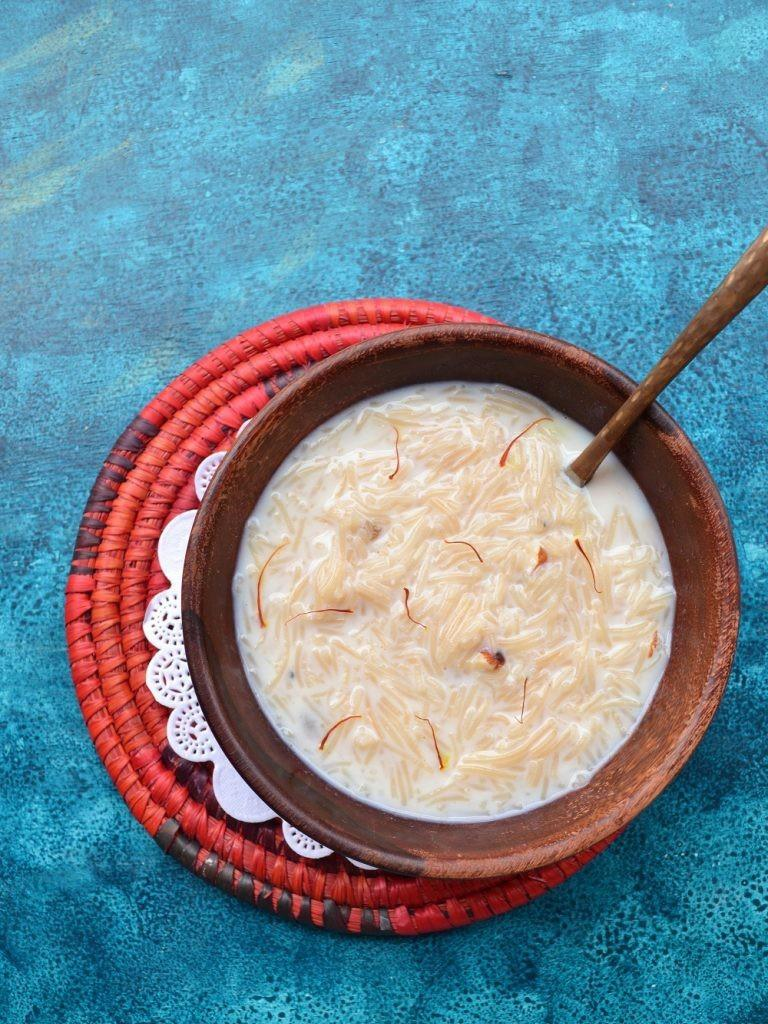Kheer: (234, 383, 682, 825)
